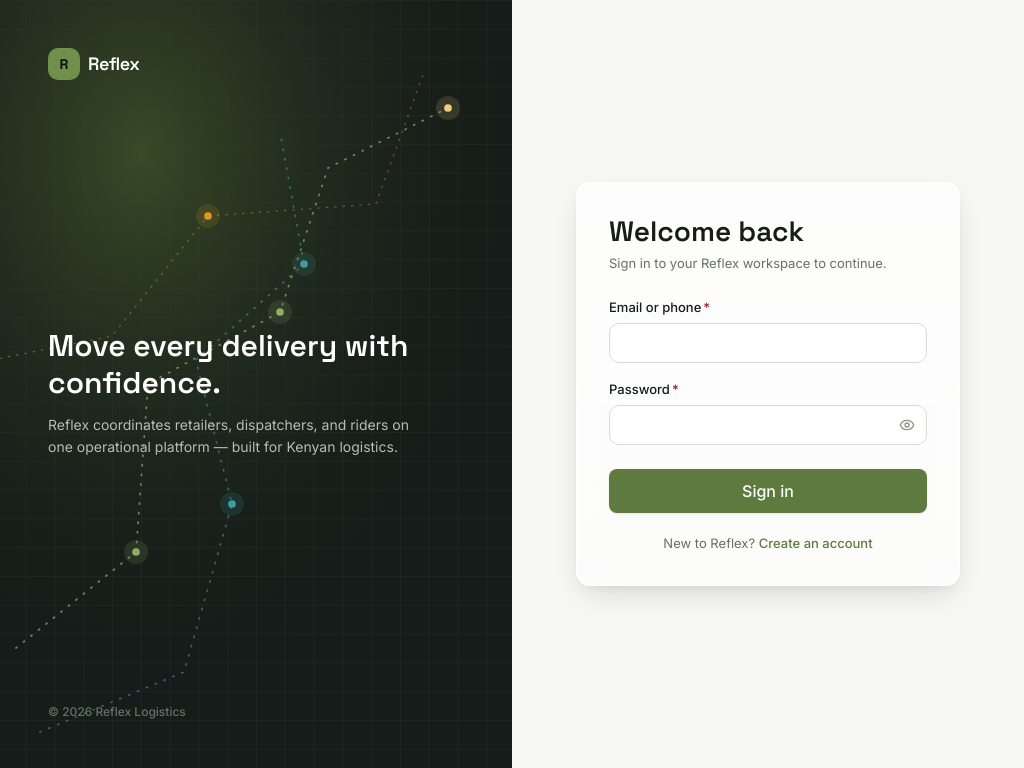
Test: LoginPage › blocks submission and shows validation errors when fields are empty
Check: the heading "Welcome back" is shown, box [609,213,804,249]
Click the button "Sign in". click: point(768, 491)
box: [609,469,927,513]
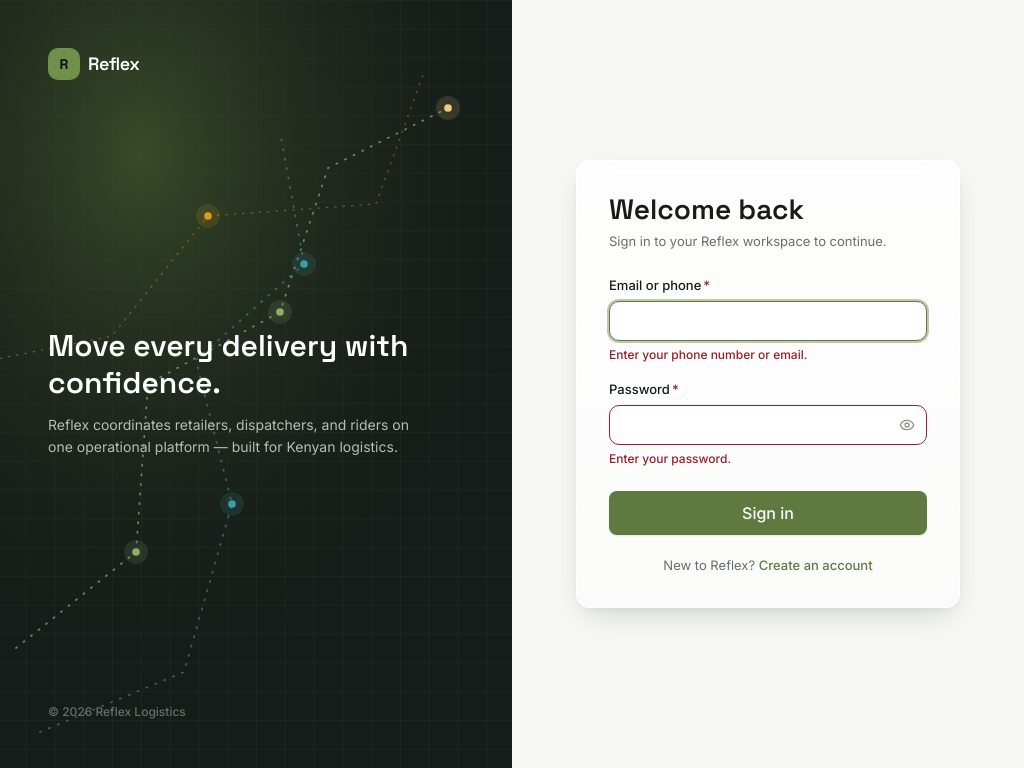
Check: the text "Enter your phone number or email." is shown, box [609,347,807,362]
Check: the text "Enter your password." is shown, box [609,451,731,466]
